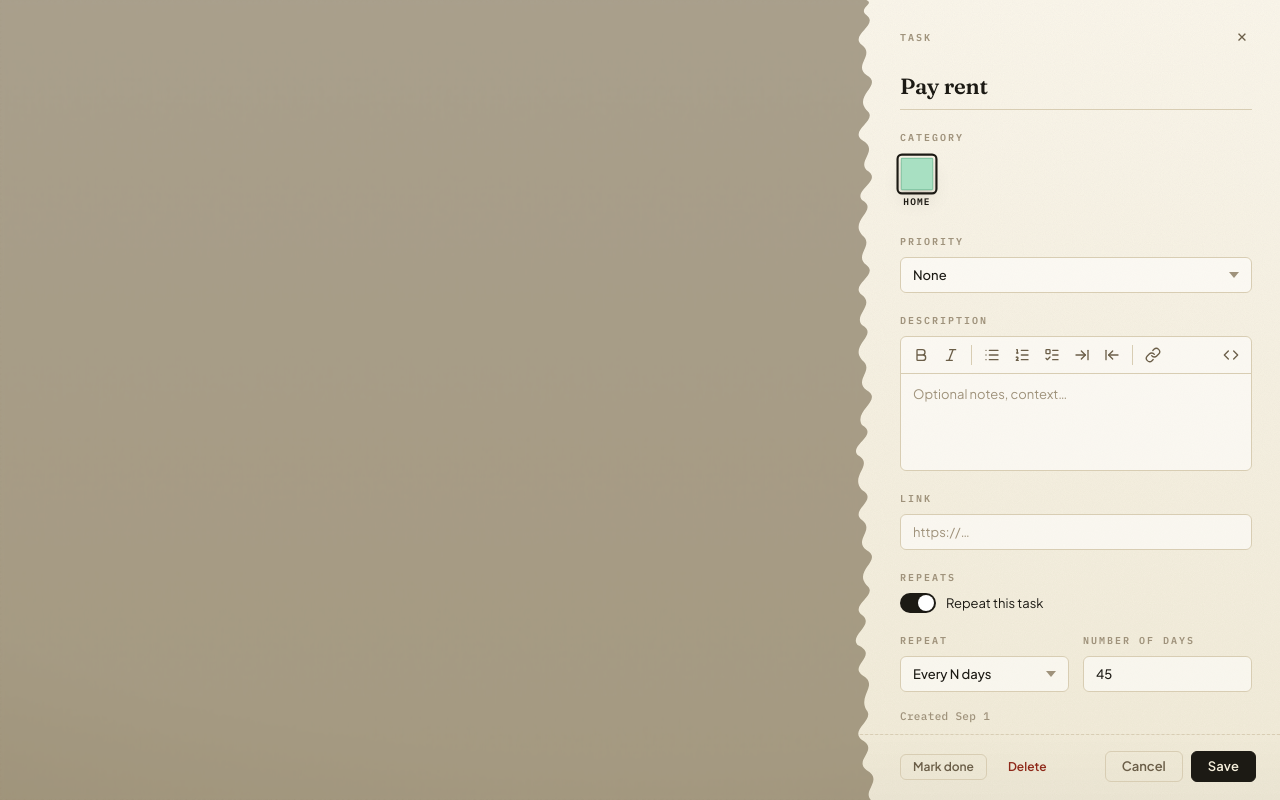
Test: TaskDrawer recurrence › blocks saving an out-of-range rule
The width and height of the screenshot is (1280, 800).
Replace the text in the number field labelled "Number of days" with "0" at (1168, 674), box [1083,656,1252,692]
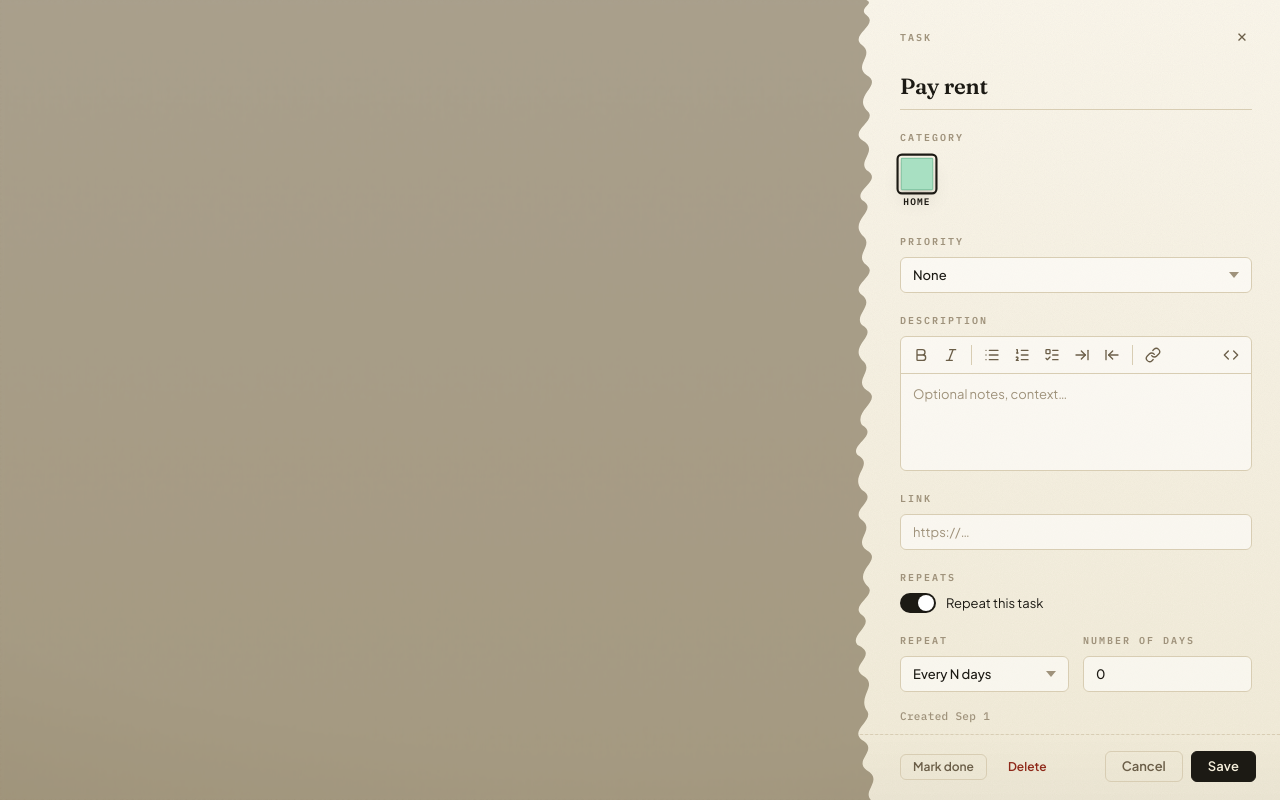
Click the button "Save" at (1223, 766), box [1191,751,1256,782]
(page scrolled)
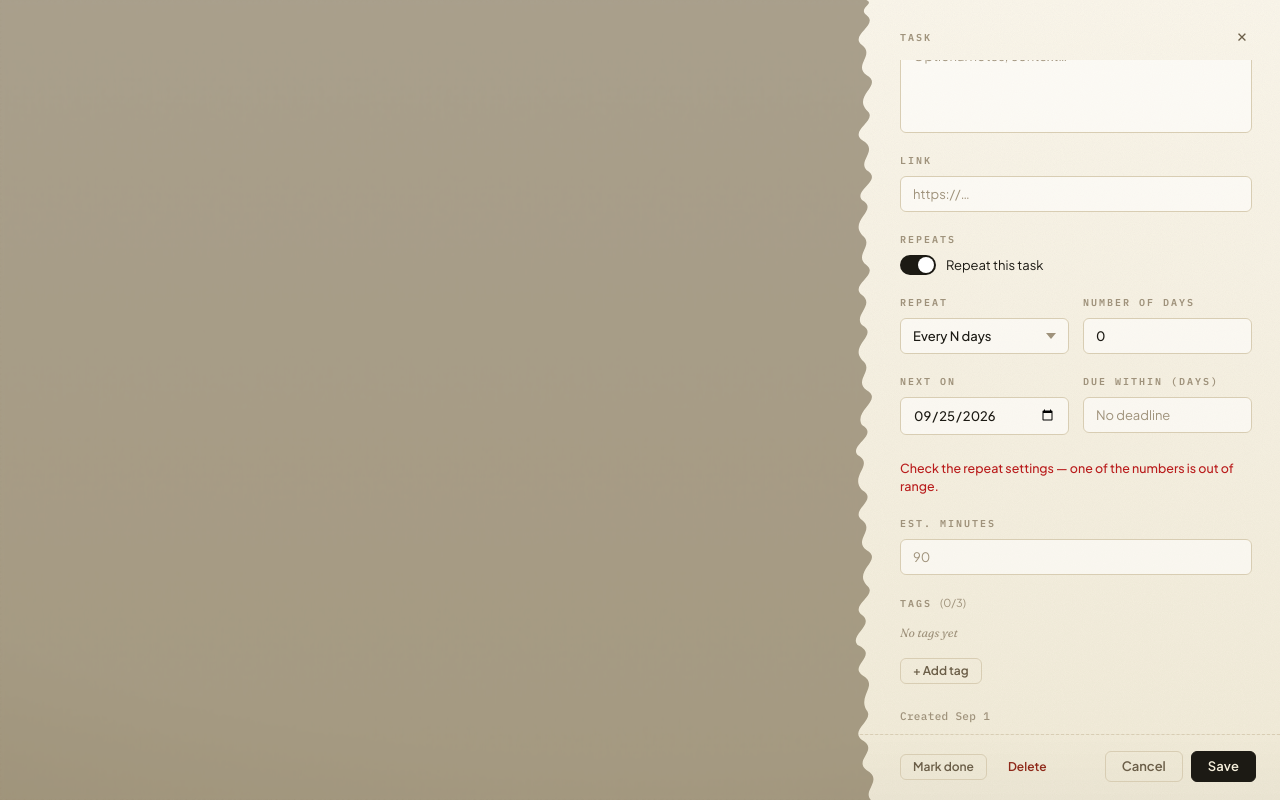
Expected: the text "Check the repeat settings — one of the numbers is out of range." is shown, [900,459,1252,496]
